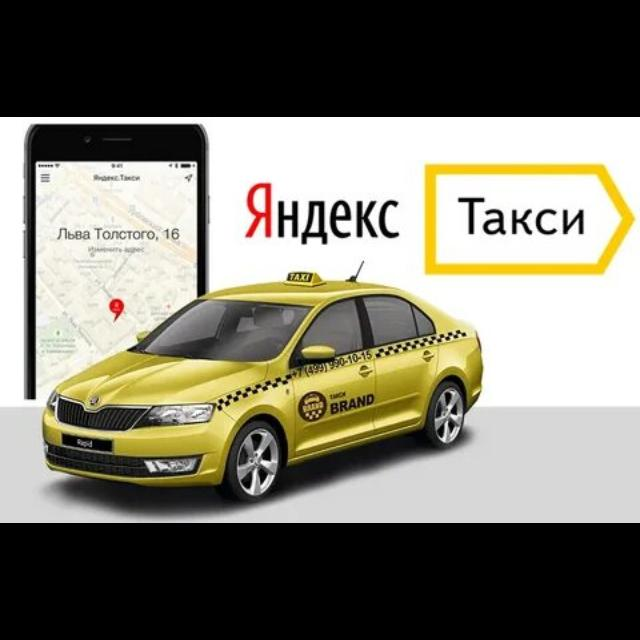taxi: (41, 261, 483, 505)
